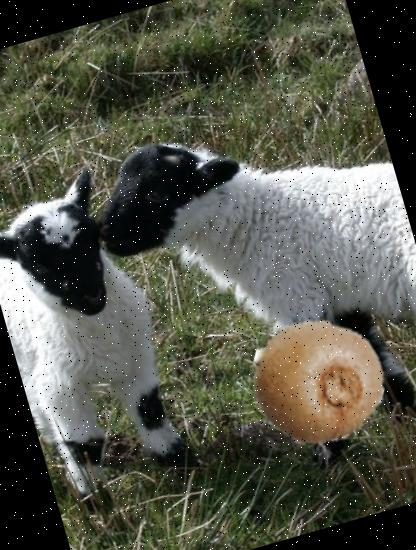Kiwi: (234, 299, 401, 466)
